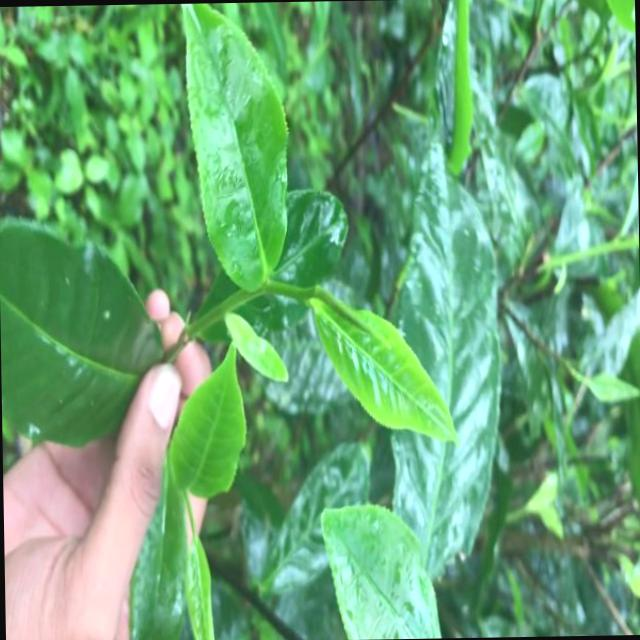Stem: (226, 289, 245, 308)
